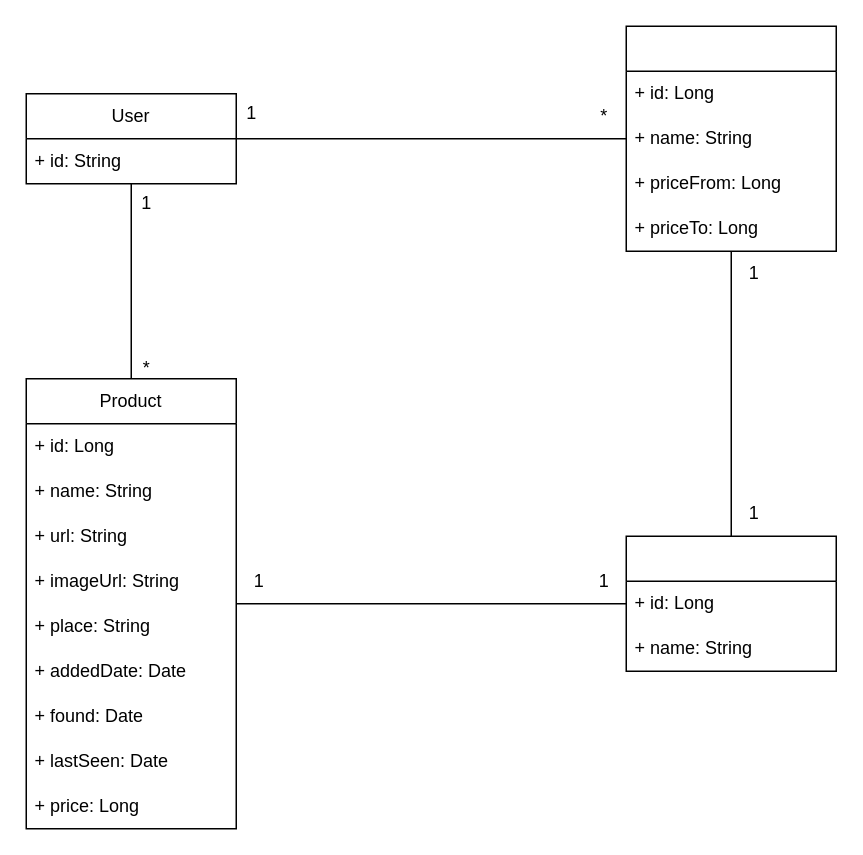
Some shapes in this 863 by 855 pixel diagram are drawn without their labels. Each missing label, with the box of its shape:
Category: (625, 535, 836, 671)
ProductConfig: (625, 25, 836, 251)
